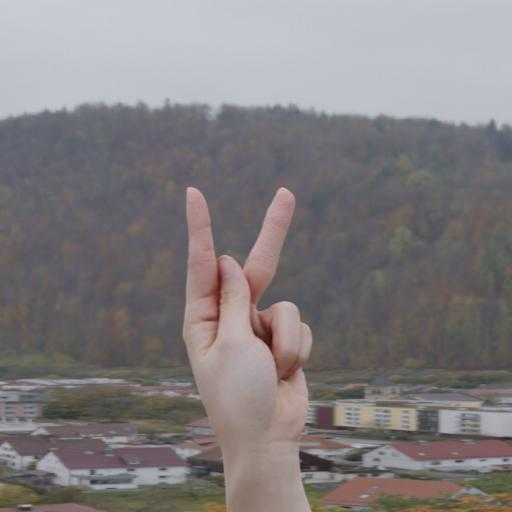K: (180, 185, 316, 450)
